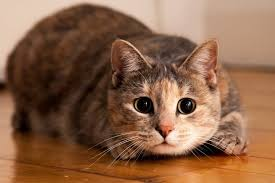Gato: (18, 16, 252, 161)
